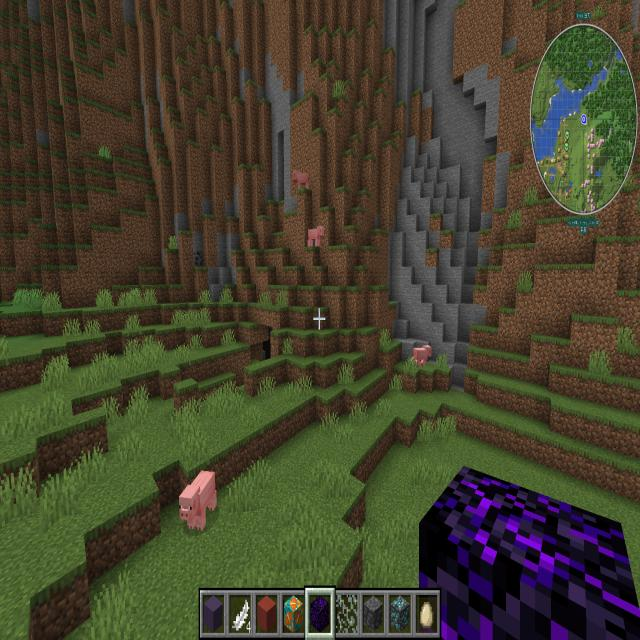pig: (175, 464, 222, 542), (304, 218, 328, 254), (410, 338, 434, 374), (289, 165, 313, 198)
